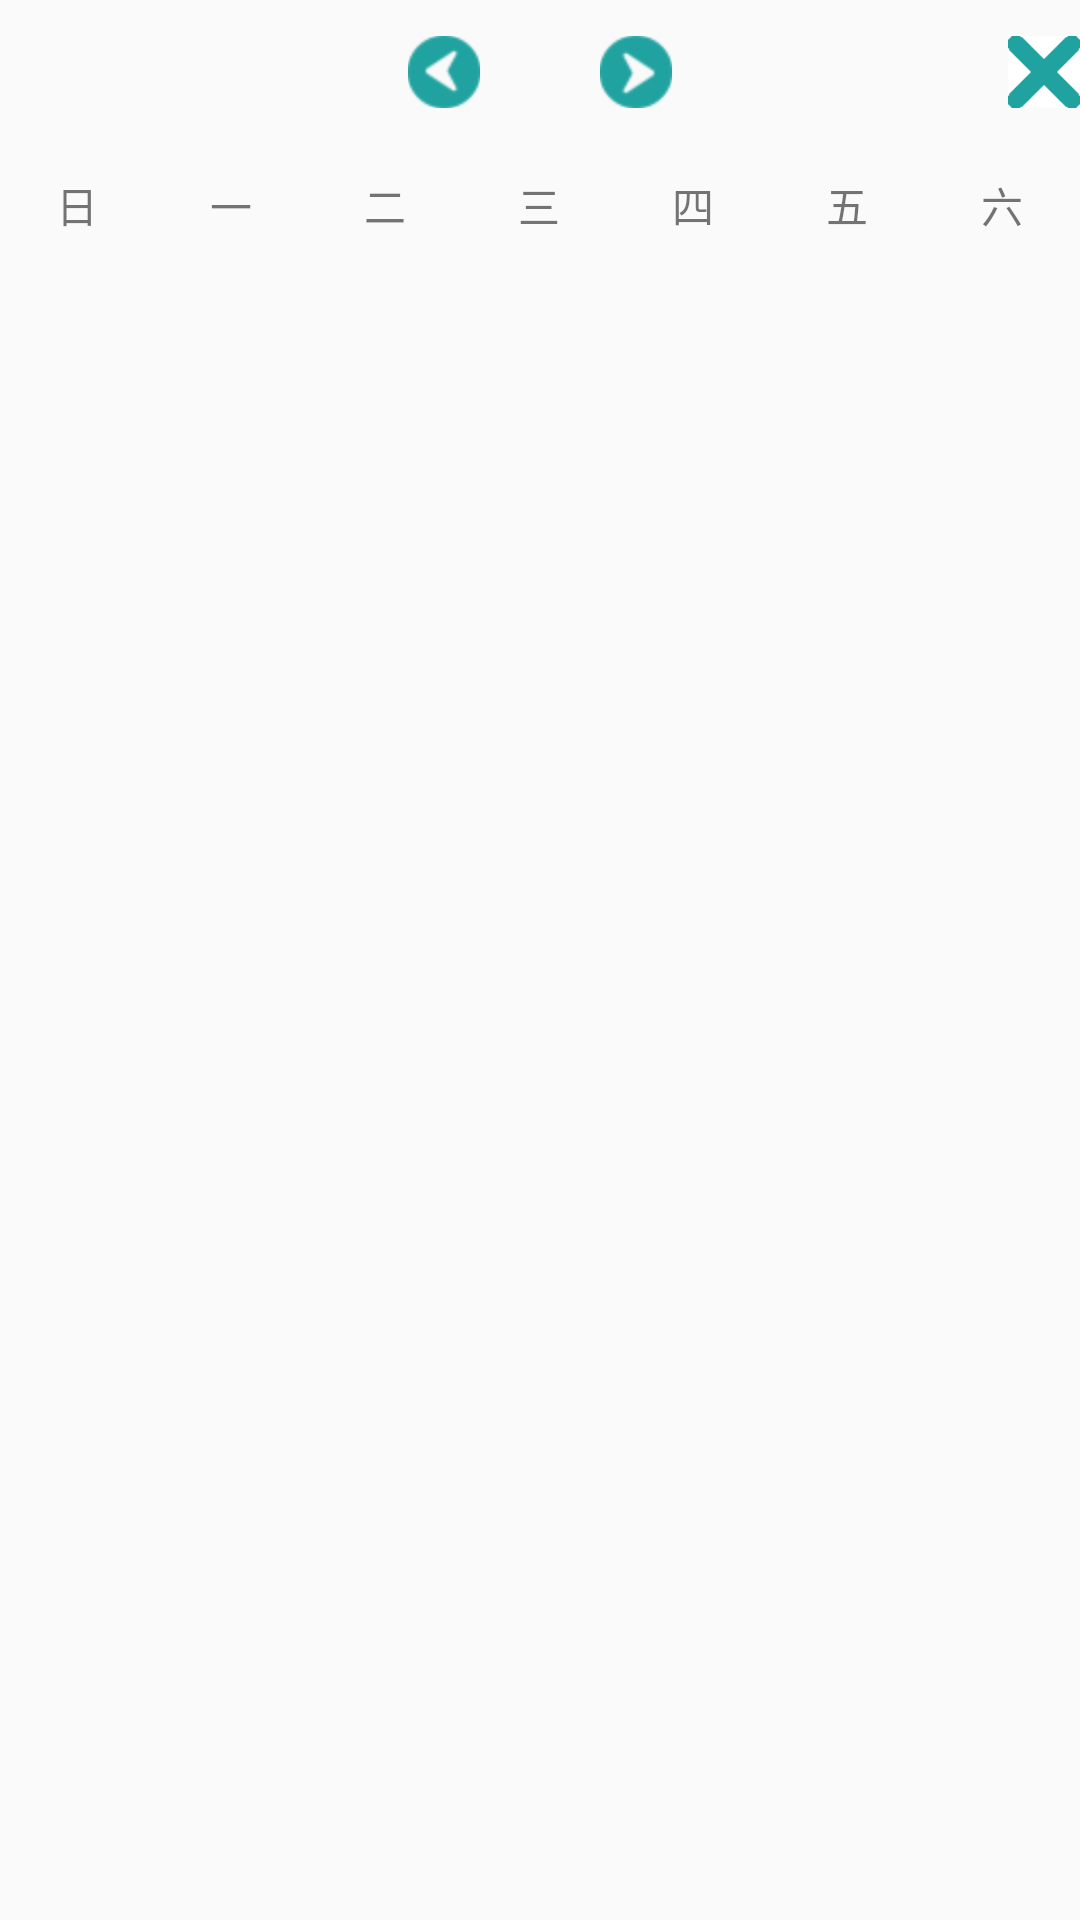

Screen size 1080px×1920px. Icon name, then its center in pixels as [x,y]:
close: [1044,72]
left: [444,72]
right: [636,72]
